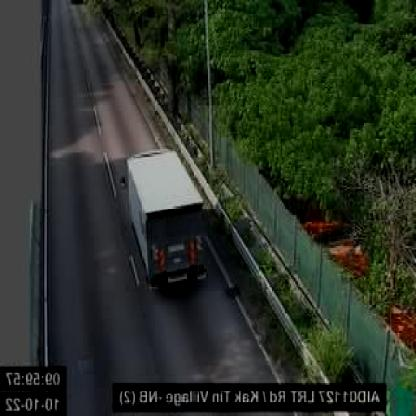Truck: (120, 149, 204, 289)
